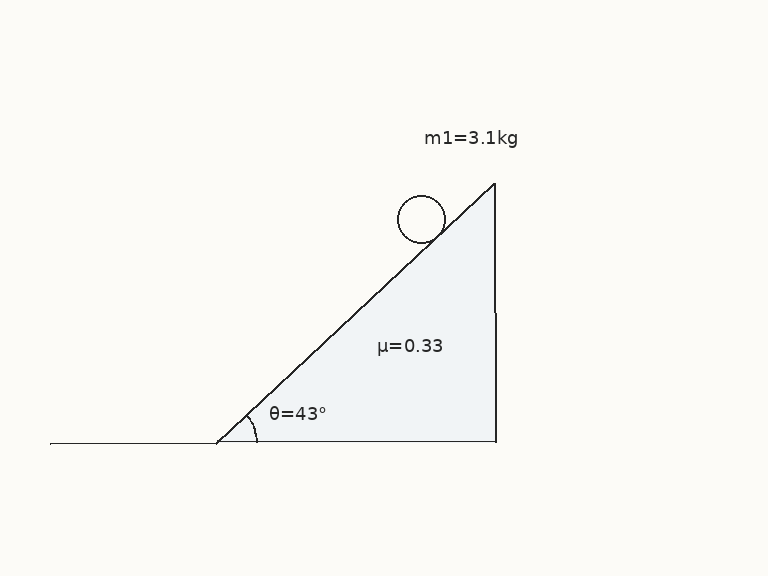ball: (395, 193, 447, 245)
ramp: (215, 182, 496, 444)
